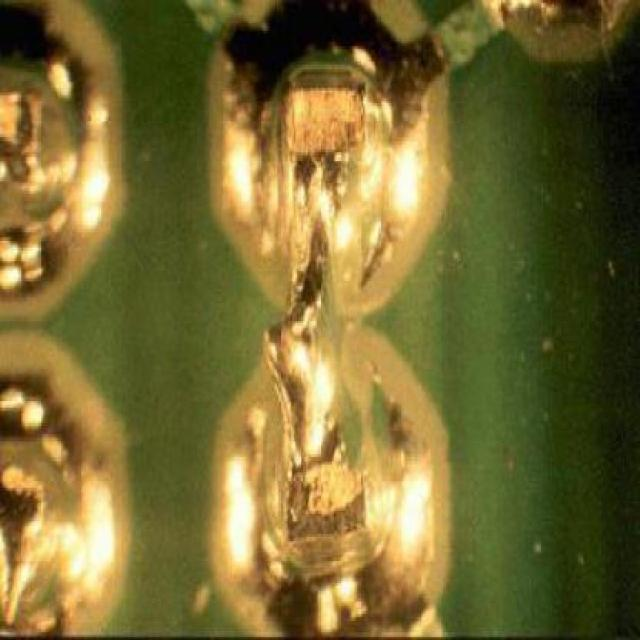Soldering shorted: (233, 8, 438, 628)
